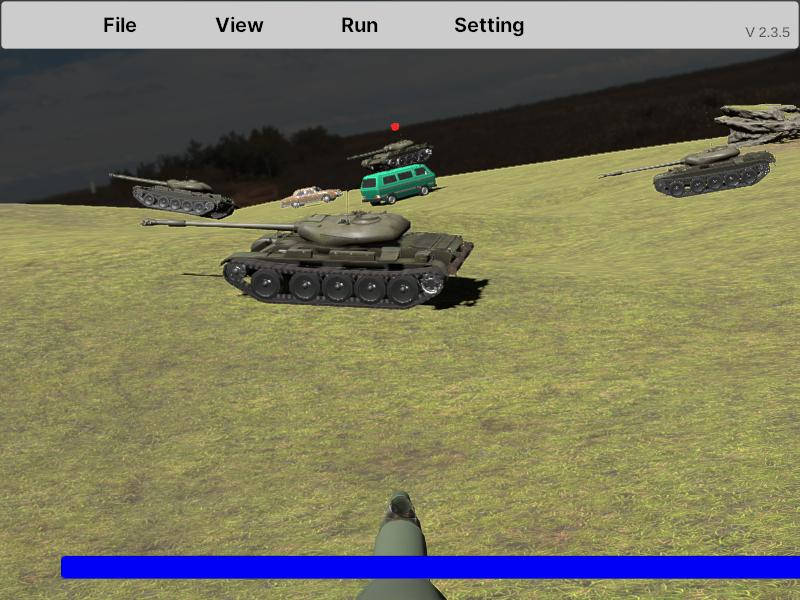Tank: (142, 211, 476, 309), (598, 146, 777, 198), (108, 172, 237, 219), (347, 137, 434, 170)
car: (361, 165, 436, 206), (281, 185, 341, 209)
